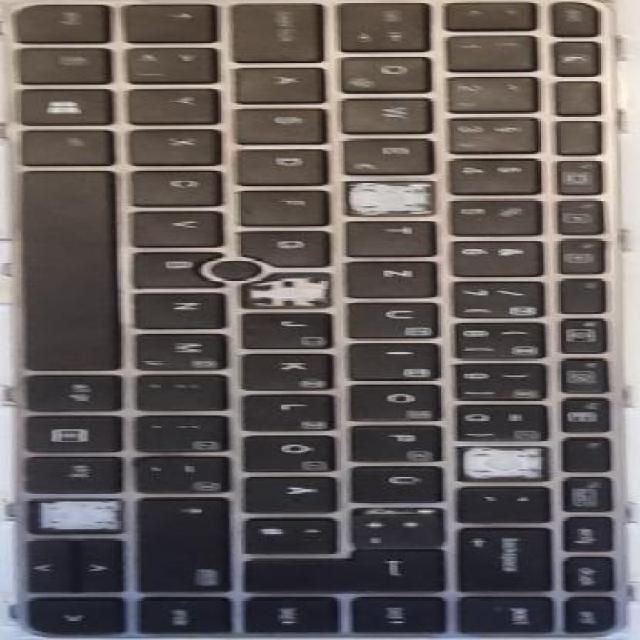Keyboard problems: (31, 500, 122, 532), (243, 275, 329, 308), (348, 183, 432, 214), (463, 448, 545, 478)
